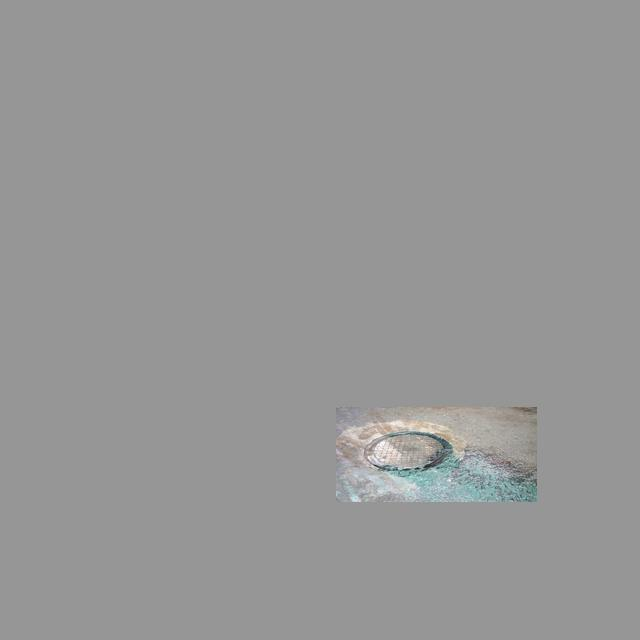circle: (358, 425, 466, 480)
